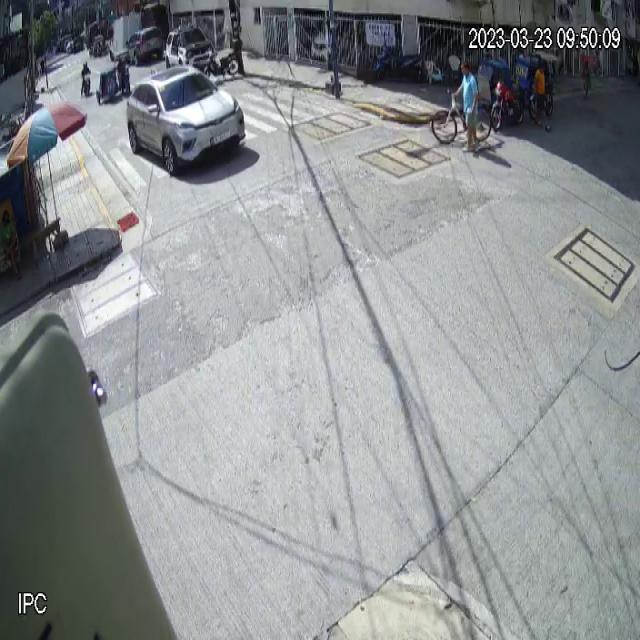Car: (126, 64, 246, 176)
